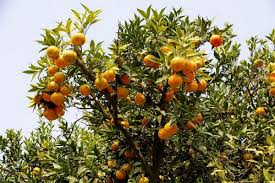orange: (167, 74, 184, 88), (170, 57, 185, 71), (64, 50, 78, 64)
